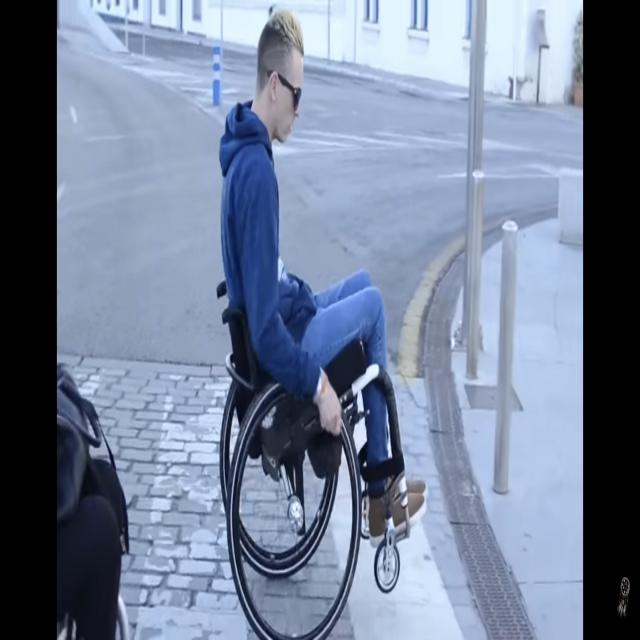wheelchairs: (217, 262, 411, 640)
